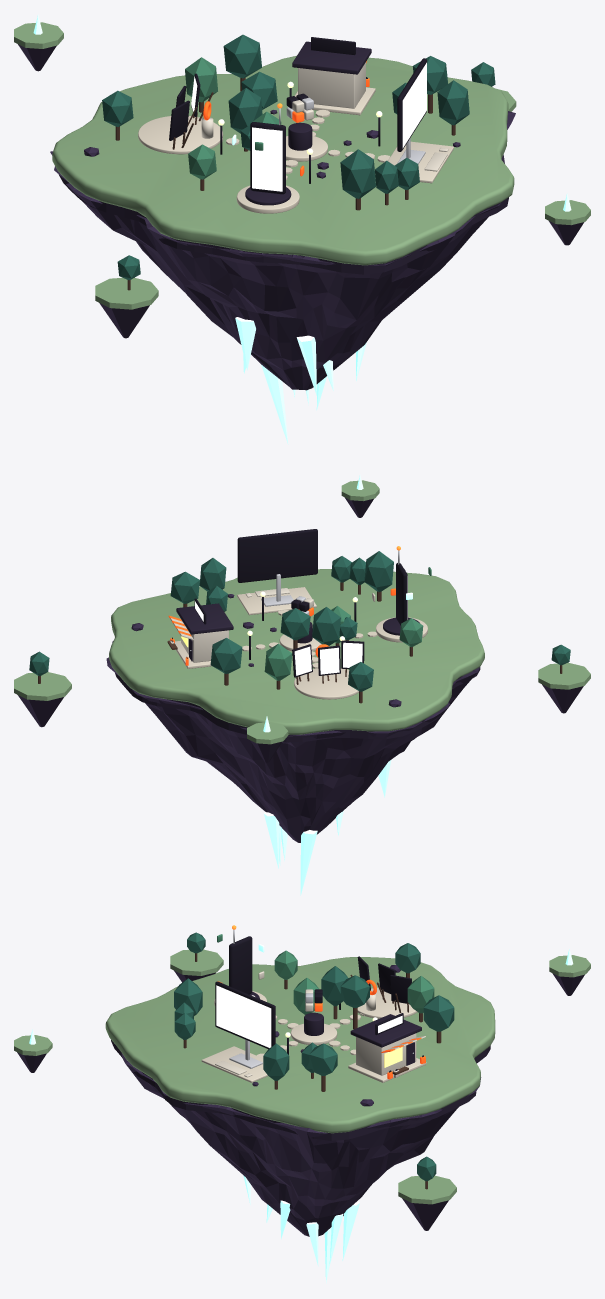
File: island.glb
3 views of the same model, one above another, from view 1: azimuth 30°, elevation 25°; view 2: azimuth 150°, elevation 25°; view 3: azimuth 270°, elevation 25° (orthographic). The views are drawn at different scales.
Visible parts, largest first — view 1: ground, rock_under, earth_band, Cube.001, Cylinder.003, screen_phone, Cylinder.047, Cube.002, tree_13, tree_11, screen_monitor, tree_4 (+24 smaller); view 2: ground, rock_under, Cube.023, earth_band, Cylinder.003, Cylinder.044, Cube.002, Cylinder.047, tree_13, tree_11, tree_2, Cube.020 (+12 smaller); view 3: ground, rock_under, screen_monitor, earth_band, Cylinder.044, Cube.001, Cube.018, Cylinder.047, Cube.002, Cube.020, tree_11, Cylinder.003 (+15 smaller).
Part boxes in pixels (x1=…): ground: x1=52, y1=55, x2=514, y2=265; rock_under: x1=50, y1=111, x2=515, y2=390; earth_band: x1=58, y1=174, x2=508, y2=274; Cube.001: x1=298, y1=62, x2=365, y2=108; Cylinder.003: x1=138, y1=116, x2=223, y2=154; screen_phone: x1=252, y1=127, x2=282, y2=191; Cylinder.047: x1=95, y1=277, x2=158, y2=309; Cube.002: x1=292, y1=41, x2=371, y2=74; tree_13: x1=340, y1=149, x2=375, y2=198; tree_11: x1=223, y1=34, x2=261, y2=78; screen_monitor: x1=402, y1=62, x2=426, y2=148; tree_4: x1=437, y1=80, x2=469, y2=125; ground: x1=109, y1=569, x2=484, y2=734; rock_under: x1=106, y1=641, x2=479, y2=842; Cube.023: x1=237, y1=529, x2=317, y2=582; earth_band: x1=115, y1=667, x2=480, y2=742; Cylinder.003: x1=294, y1=668, x2=358, y2=699; Cylinder.044: x1=14, y1=672, x2=71, y2=700; Cube.002: x1=176, y1=603, x2=233, y2=634; Cylinder.047: x1=538, y1=662, x2=590, y2=689; tree_13: x1=364, y1=551, x2=393, y2=591; tree_11: x1=210, y1=638, x2=242, y2=673; tree_2: x1=312, y1=607, x2=340, y2=645; Cube.020: x1=237, y1=587, x2=316, y2=615; ground: x1=105, y1=957, x2=495, y2=1133; rock_under: x1=121, y1=1053, x2=481, y2=1236; screen_monitor: x1=216, y1=985, x2=271, y2=1047; earth_band: x1=111, y1=1040, x2=490, y2=1140; Cylinder.044: x1=398, y1=1175, x2=456, y2=1204; Cube.001: x1=356, y1=1033, x2=416, y2=1075; Cube.018: x1=229, y1=936, x2=252, y2=994; Cylinder.047: x1=170, y1=949, x2=223, y2=975; Cube.002: x1=350, y1=1014, x2=421, y2=1047; Cube.020: x1=201, y1=1046, x2=267, y2=1082; tree_11: x1=423, y1=995, x2=454, y2=1031; Cylinder.003: x1=357, y1=987, x2=417, y2=1018.
Size of the model in its own units: 17.19 by 11.88 by 18.64.
